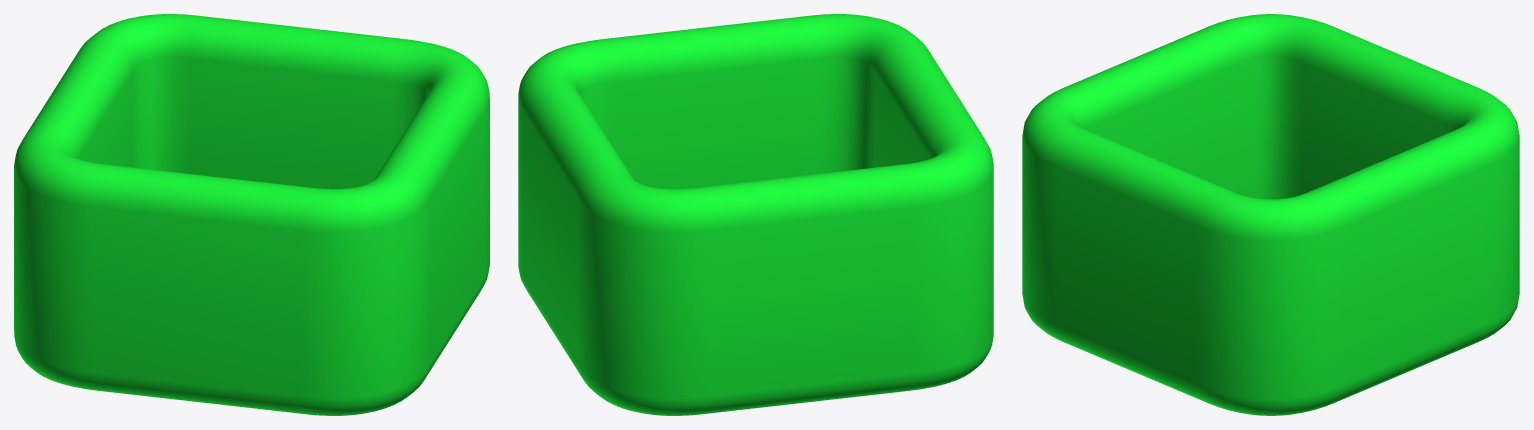
File: Particle-19.dae
The picture shows the model from 3 angles, left to right: view 1: azimuth 30°, elevation 25°; view 2: azimuth 150°, elevation 25°; view 3: azimuth 270°, elevation 25°; orthographic projection. The views are drawn at different scales.
Parts seen in each view (by area): view 1: Particle; view 2: Particle; view 3: Particle.
Part boxes in pixels (bbox=[...]): Particle: bbox=[14, 14, 489, 415]; Particle: bbox=[518, 14, 993, 415]; Particle: bbox=[1022, 14, 1519, 415].
Bounding box in the file's own units: 0.1279 × 0.06 × 0.1279.
